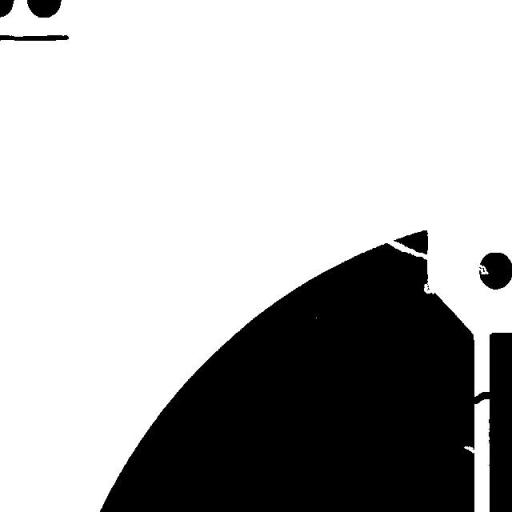mousebite: (469, 256, 496, 282), (416, 276, 442, 302), (456, 438, 482, 461)
open: (378, 230, 436, 268)
short: (461, 384, 503, 411)
